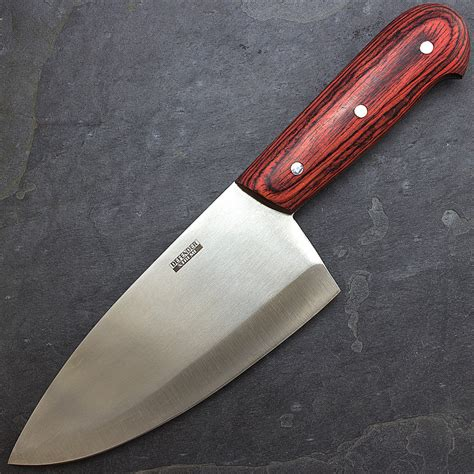knife: (10, 4, 469, 463)
